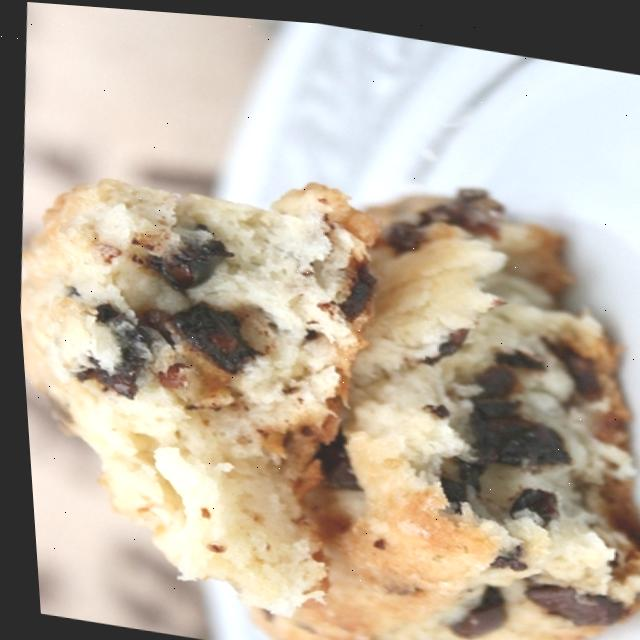面包点心: (6, 105, 640, 640)
